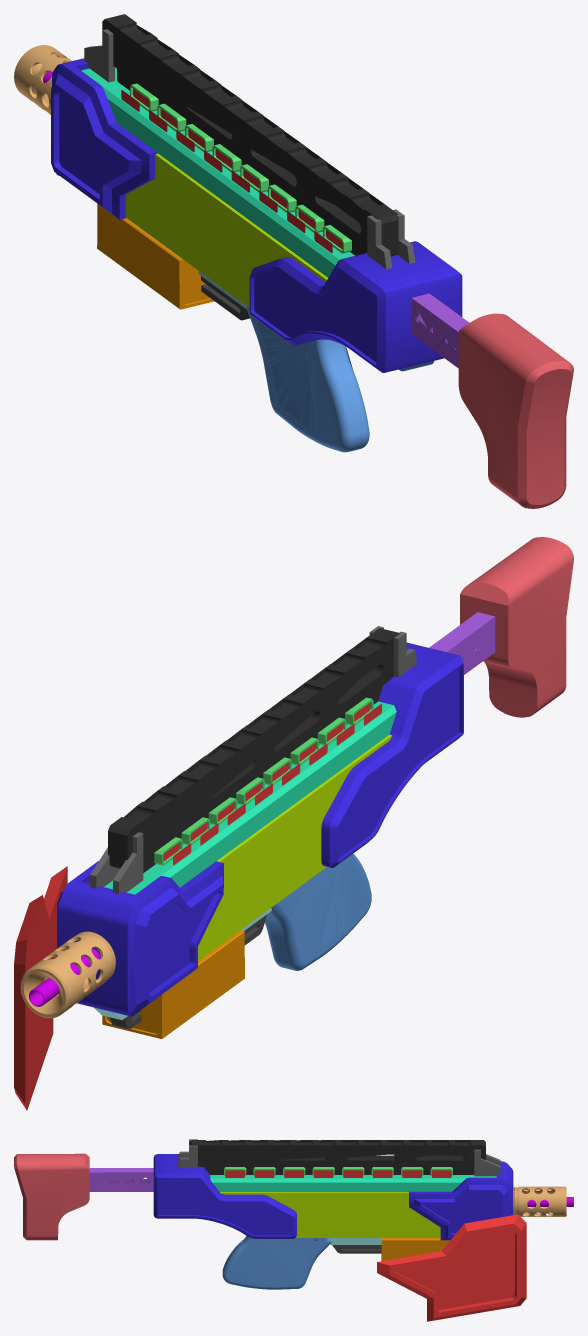
The model's file is stinger_005.fbx.
The picture shows the model from 3 angles, top to bottom: view 1: azimuth 30°, elevation 25°; view 2: azimuth 150°, elevation 25°; view 3: azimuth 270°, elevation 25°; orthographic projection. The views are drawn at different scales.
Parts seen in each view (by area): view 1: Box.002, Back_weight, Butt, Main_Body.001, Front_Cap.001, Cage_Grip.001, Spine, Box, Stock.002, Butt_Extension, Sights, Tip_Barrel (+1 smaller); view 2: Box.002, Front_Cap.001, Butt, Back_weight, Main_Body.001, Cage_Grip.001, Spine, Holo_Shield, Box, Tip_Barrel, Stock.002, Sights (+2 smaller); view 3: Holo_Shield, Box.002, Back_weight, Main_Body.001, Butt, Cage_Grip.001, Front_Cap.001, Spine, Box, Tip_Barrel, Butt_Extension, Stock.002 (+2 smaller).
Boxes of the visible parts, bbox=[...] form: Box.002: bbox=[102, 14, 398, 256]; Back_weight: bbox=[249, 241, 462, 372]; Butt: bbox=[458, 313, 573, 508]; Main_Body.001: bbox=[125, 153, 328, 307]; Front_Cap.001: bbox=[51, 58, 157, 219]; Cage_Grip.001: bbox=[245, 305, 434, 452]; Spine: bbox=[81, 67, 354, 277]; Box: bbox=[121, 83, 351, 253]; Stock.002: bbox=[97, 203, 214, 309]; Butt_Extension: bbox=[411, 293, 469, 368]; Sights: bbox=[84, 29, 415, 269]; Tip_Barrel: bbox=[14, 45, 71, 114]; Box.002: bbox=[108, 628, 399, 872]; Front_Cap.001: bbox=[57, 861, 223, 1016]; Butt: bbox=[460, 537, 573, 717]; Back_weight: bbox=[321, 642, 463, 867]; Main_Body.001: bbox=[198, 734, 392, 960]; Cage_Grip.001: bbox=[265, 853, 371, 970]; Spine: bbox=[104, 701, 396, 894]; Holo_Shield: bbox=[14, 866, 67, 1110]; Box: bbox=[154, 697, 381, 865]; Tip_Barrel: bbox=[20, 931, 115, 1018]; Stock.002: bbox=[102, 930, 244, 1038]; Sights: bbox=[90, 626, 417, 894]; Holo_Shield: bbox=[377, 1214, 526, 1321]; Box.002: bbox=[189, 1140, 485, 1174]; Back_weight: bbox=[153, 1154, 296, 1238]; Main_Body.001: bbox=[220, 1192, 440, 1237]; Butt: bbox=[14, 1153, 89, 1240]; Cage_Grip.001: bbox=[222, 1236, 331, 1289]; Front_Cap.001: bbox=[409, 1161, 513, 1240]; Spine: bbox=[210, 1175, 496, 1191]; Box: bbox=[224, 1167, 452, 1177]; Tip_Barrel: bbox=[513, 1186, 573, 1216]; Butt_Extension: bbox=[89, 1168, 153, 1191]; Stock.002: bbox=[381, 1238, 449, 1261].
Size of the model in its own units: 87.61 by 114 by 391.
